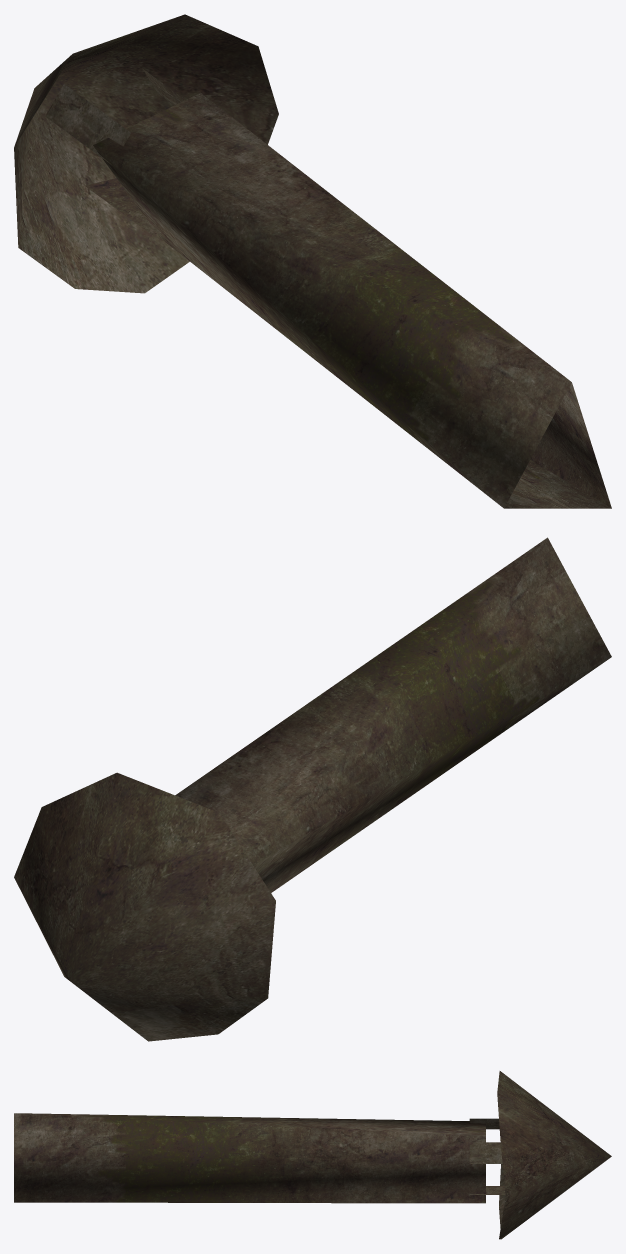
The model's file is TI_Chimney_01_LOD_01.fbx.
3 renders of one model, top to bottom at view 1: azimuth 30°, elevation 25°; view 2: azimuth 150°, elevation 25°; view 3: azimuth 270°, elevation 25°, orthographic. The views are drawn at different scales.
Visible parts, largest first — view 1: TI_Chimney_01_LOD_01; view 2: TI_Chimney_01_LOD_01; view 3: TI_Chimney_01_LOD_01.
Boxes of the visible parts, left/top/right/bottom form: TI_Chimney_01_LOD_01: left=14, top=14, right=611, bottom=508; TI_Chimney_01_LOD_01: left=14, top=537, right=611, bottom=1041; TI_Chimney_01_LOD_01: left=14, top=1071, right=611, bottom=1239.
Bounding box in the file's own units: 1.15 × 1.11 × 3.83.
